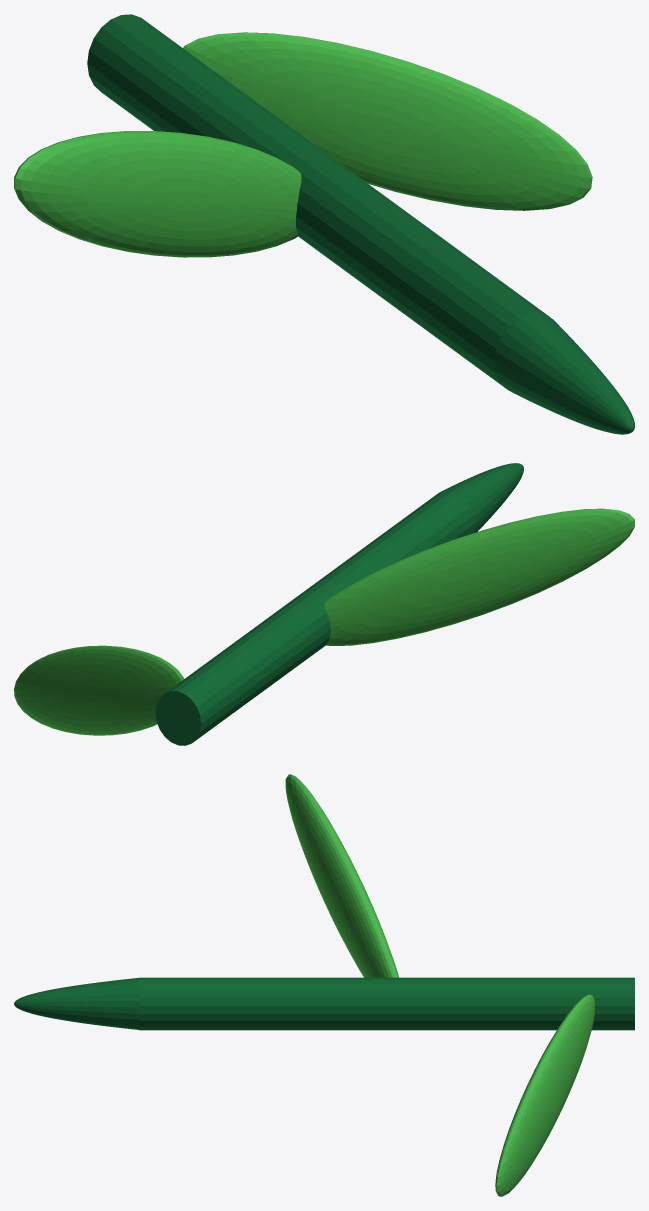
File: tinker.obj
3 renders of one model, top to bottom at view 1: azimuth 30°, elevation 25°; view 2: azimuth 150°, elevation 25°; view 3: azimuth 270°, elevation 25°, orthographic. The views are drawn at different scales.
Parts seen in each view (by area): view 1: group_0_4634441, group_0_1206582; view 2: group_0_4634441, group_0_1206582; view 3: group_0_1206582, group_0_4634441.
Boxes of the visible parts, x1,y1,x2,y2 form: group_0_4634441: (14,32,592,257); group_0_1206582: (87,14,634,434); group_0_4634441: (14,508,634,735); group_0_1206582: (155,463,523,745); group_0_1206582: (14,977,634,1030); group_0_4634441: (285,774,594,1196).
Size of the model in its own units: 88.12 by 39.44 by 104.
